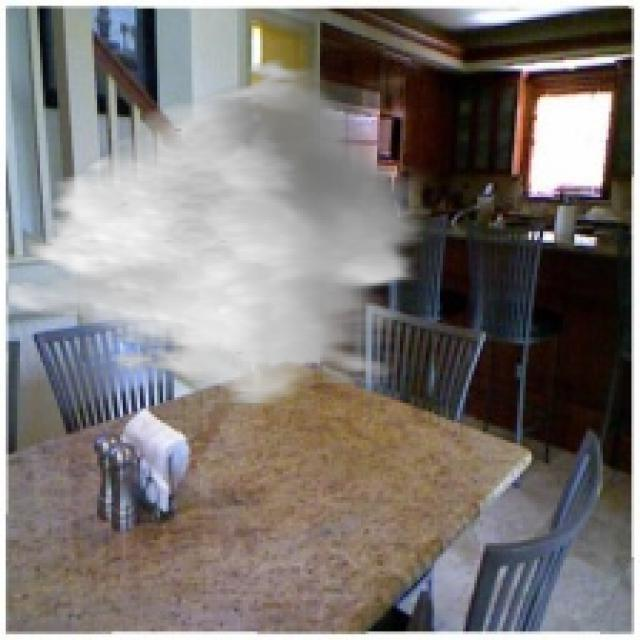Smoke: (6, 51, 432, 406)
